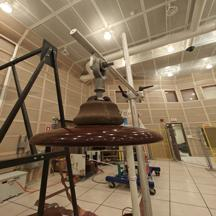insulator: (24, 91, 169, 156)
